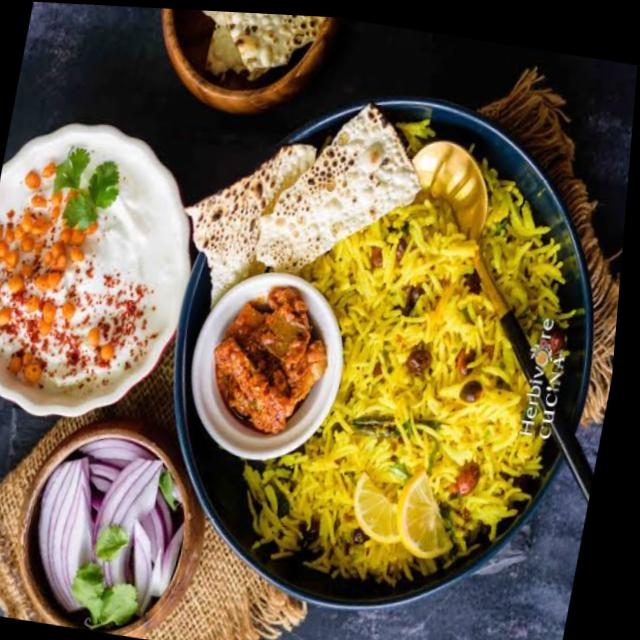PAPADAM: (186, 101, 421, 311), (202, 11, 324, 77)
PICKLE: (212, 285, 326, 429)
RICE: (247, 215, 537, 580)
